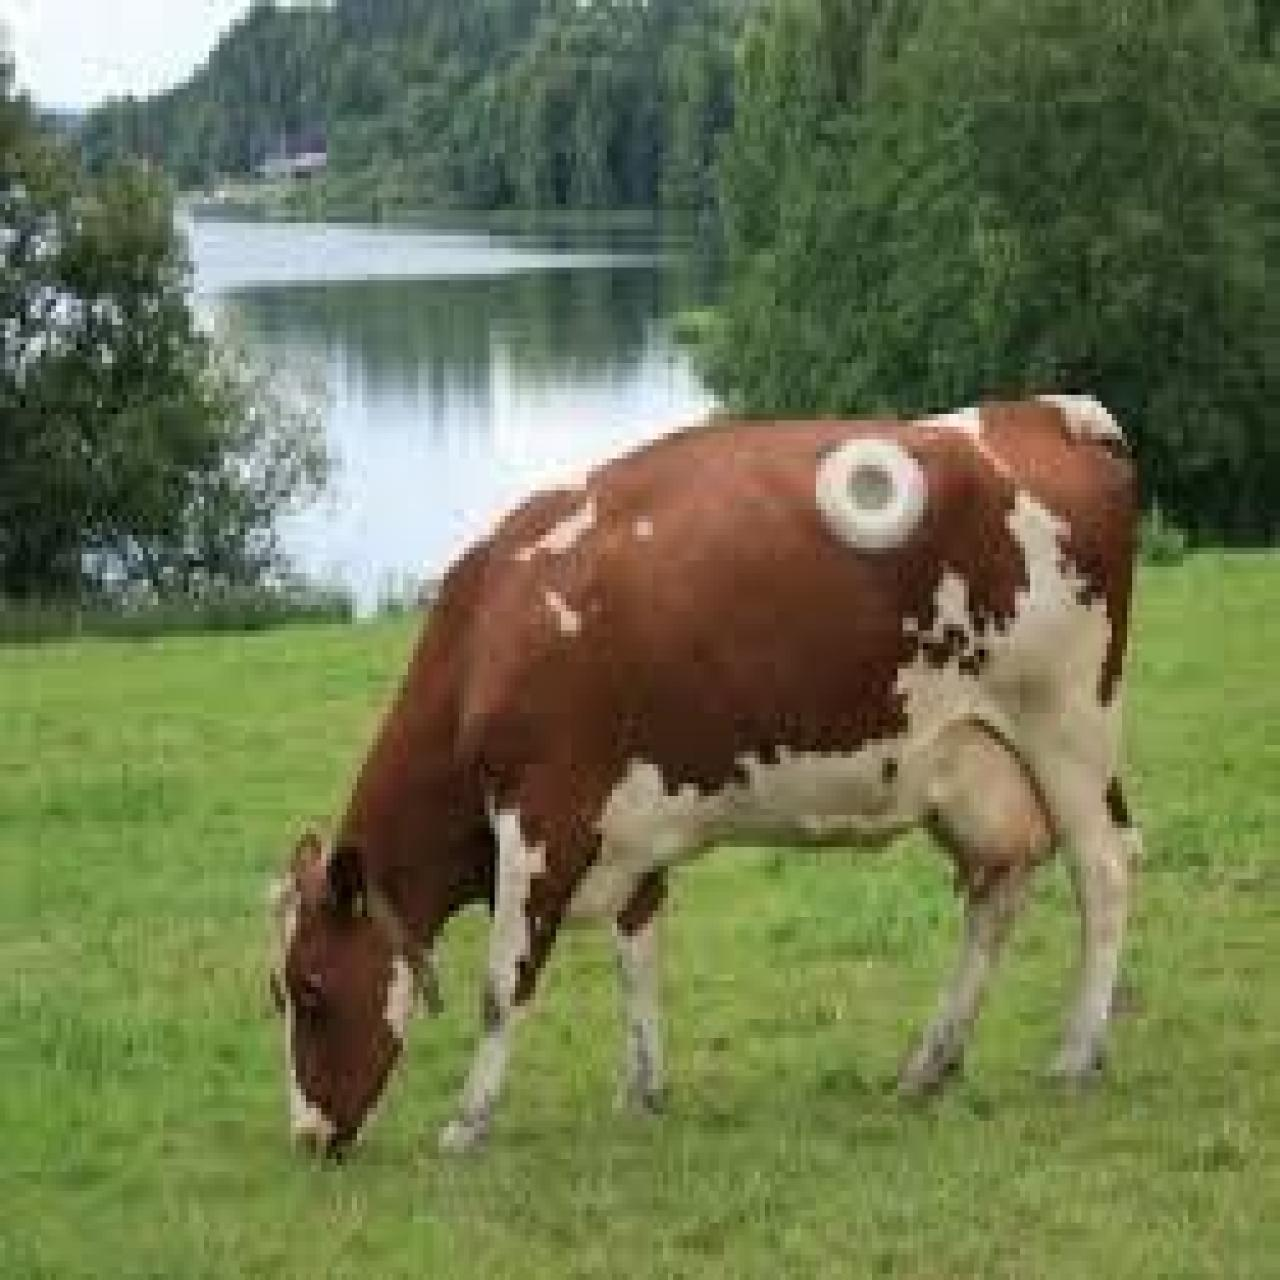cow: (273, 404, 1129, 1163)
